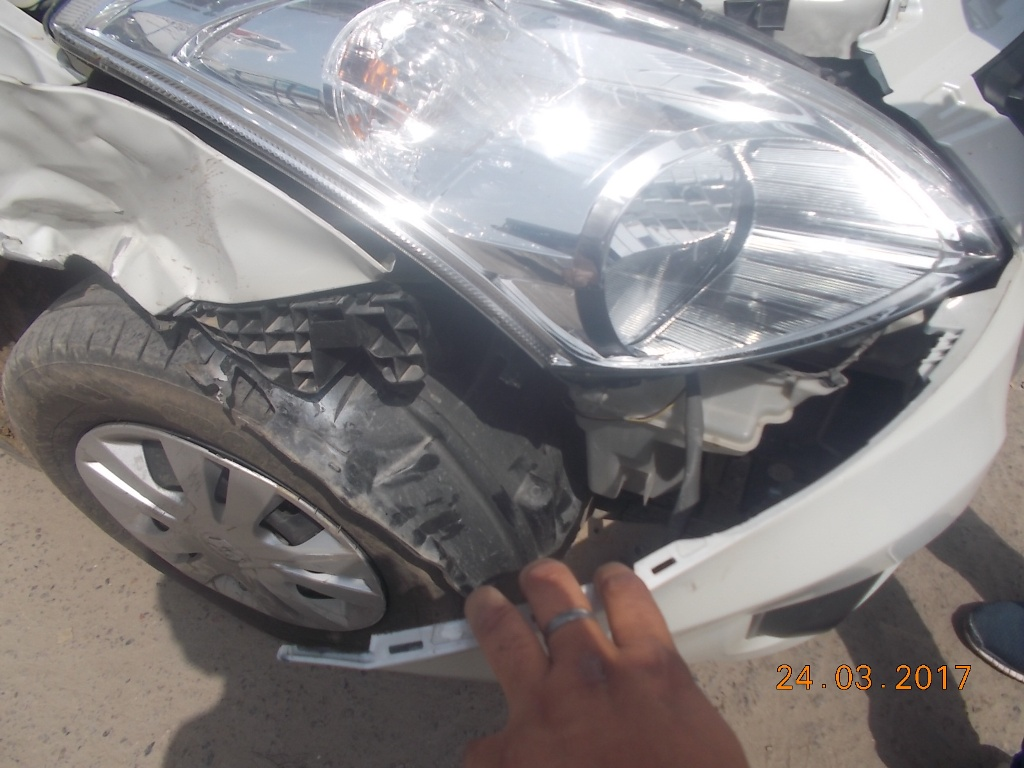Dent: (2, 115, 180, 255)
Dislocation: (151, 276, 940, 637)
